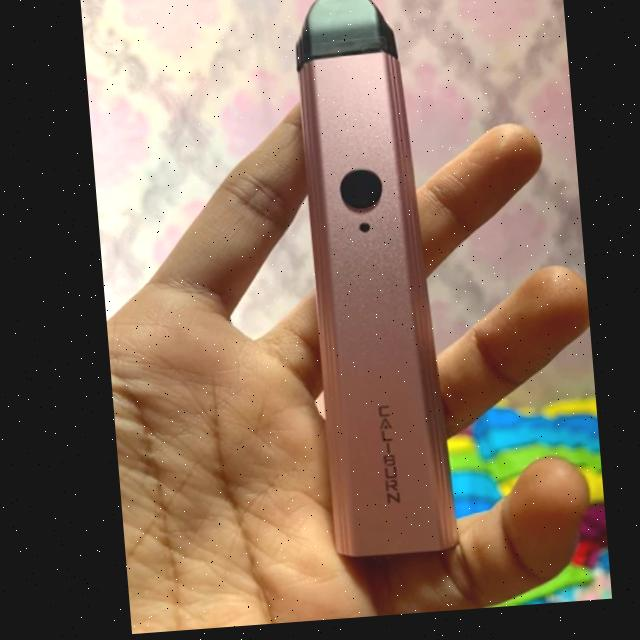vape: (289, 0, 452, 563)
